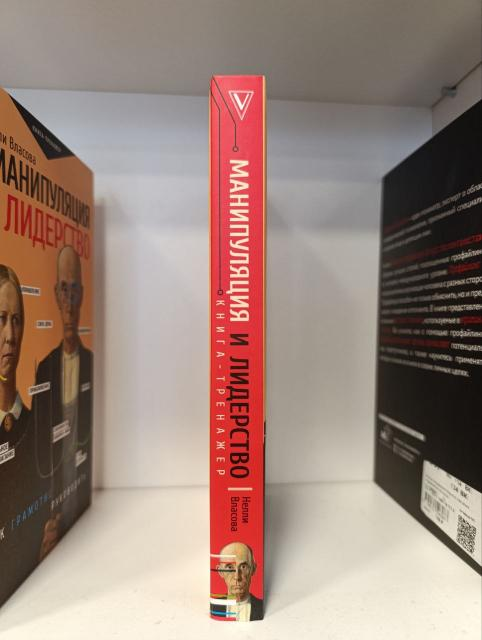book-s-spine: (209, 74, 266, 622)
